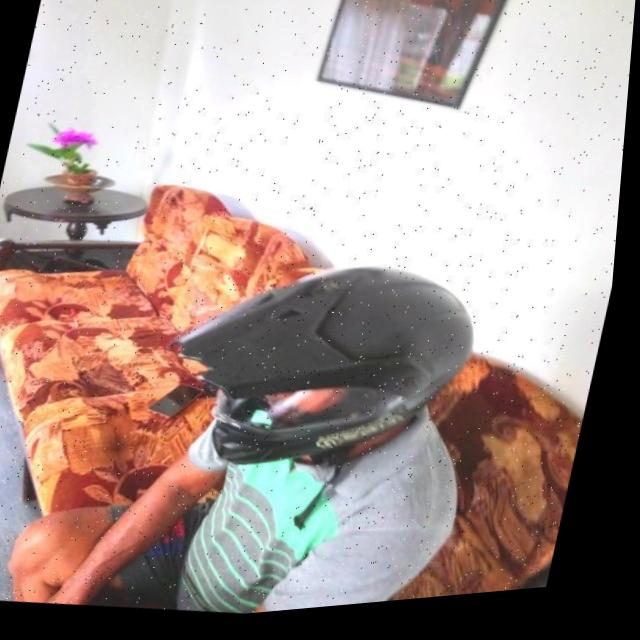helmet: (143, 239, 496, 566)
